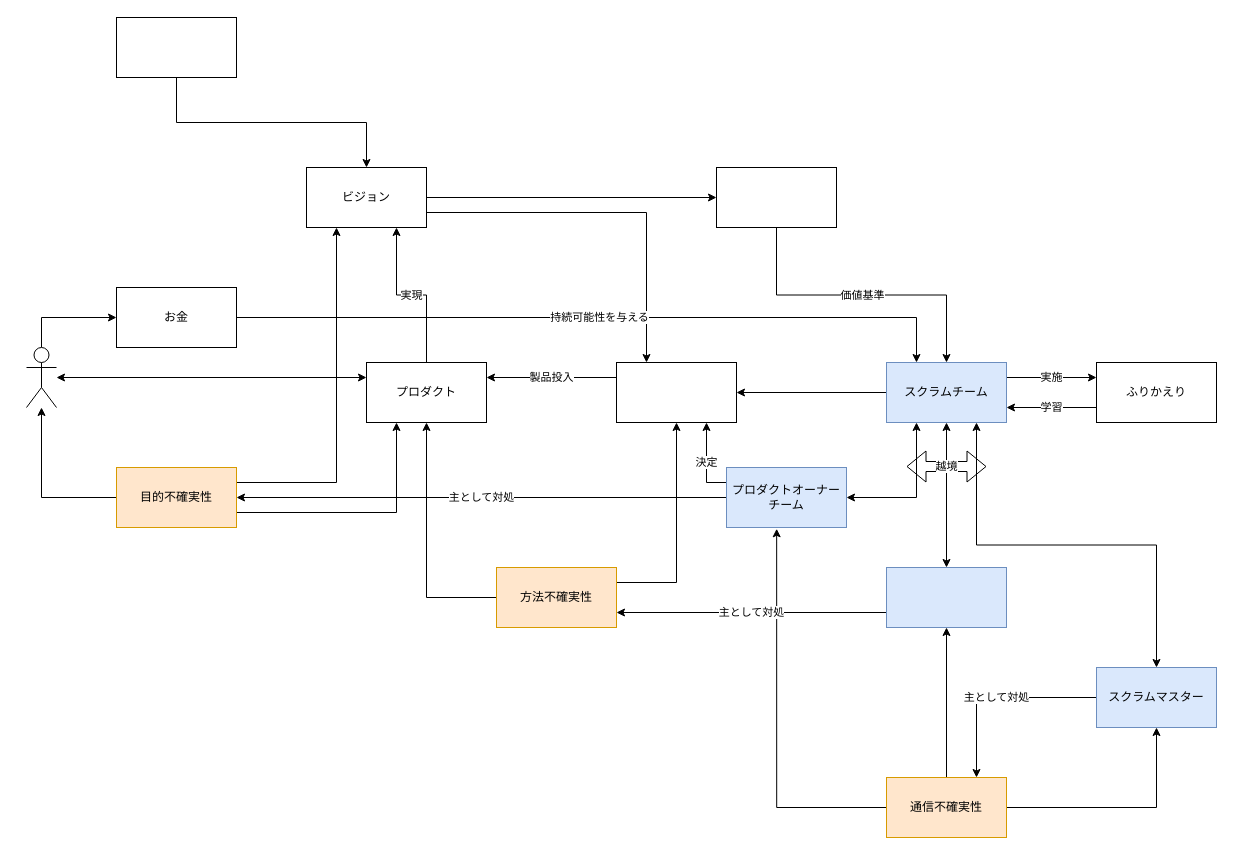
This 1234x855 diagram has some shape labels left out. Here are the shapes that lost their labels. From the top down, the centre of each, then its label:
the point at 176,47: ミッション
the point at 776,197: バリュー
the point at 41,377: 競争環境
the point at 676,392: プロダクトバックログ
the point at 946,597: 開発チーム
